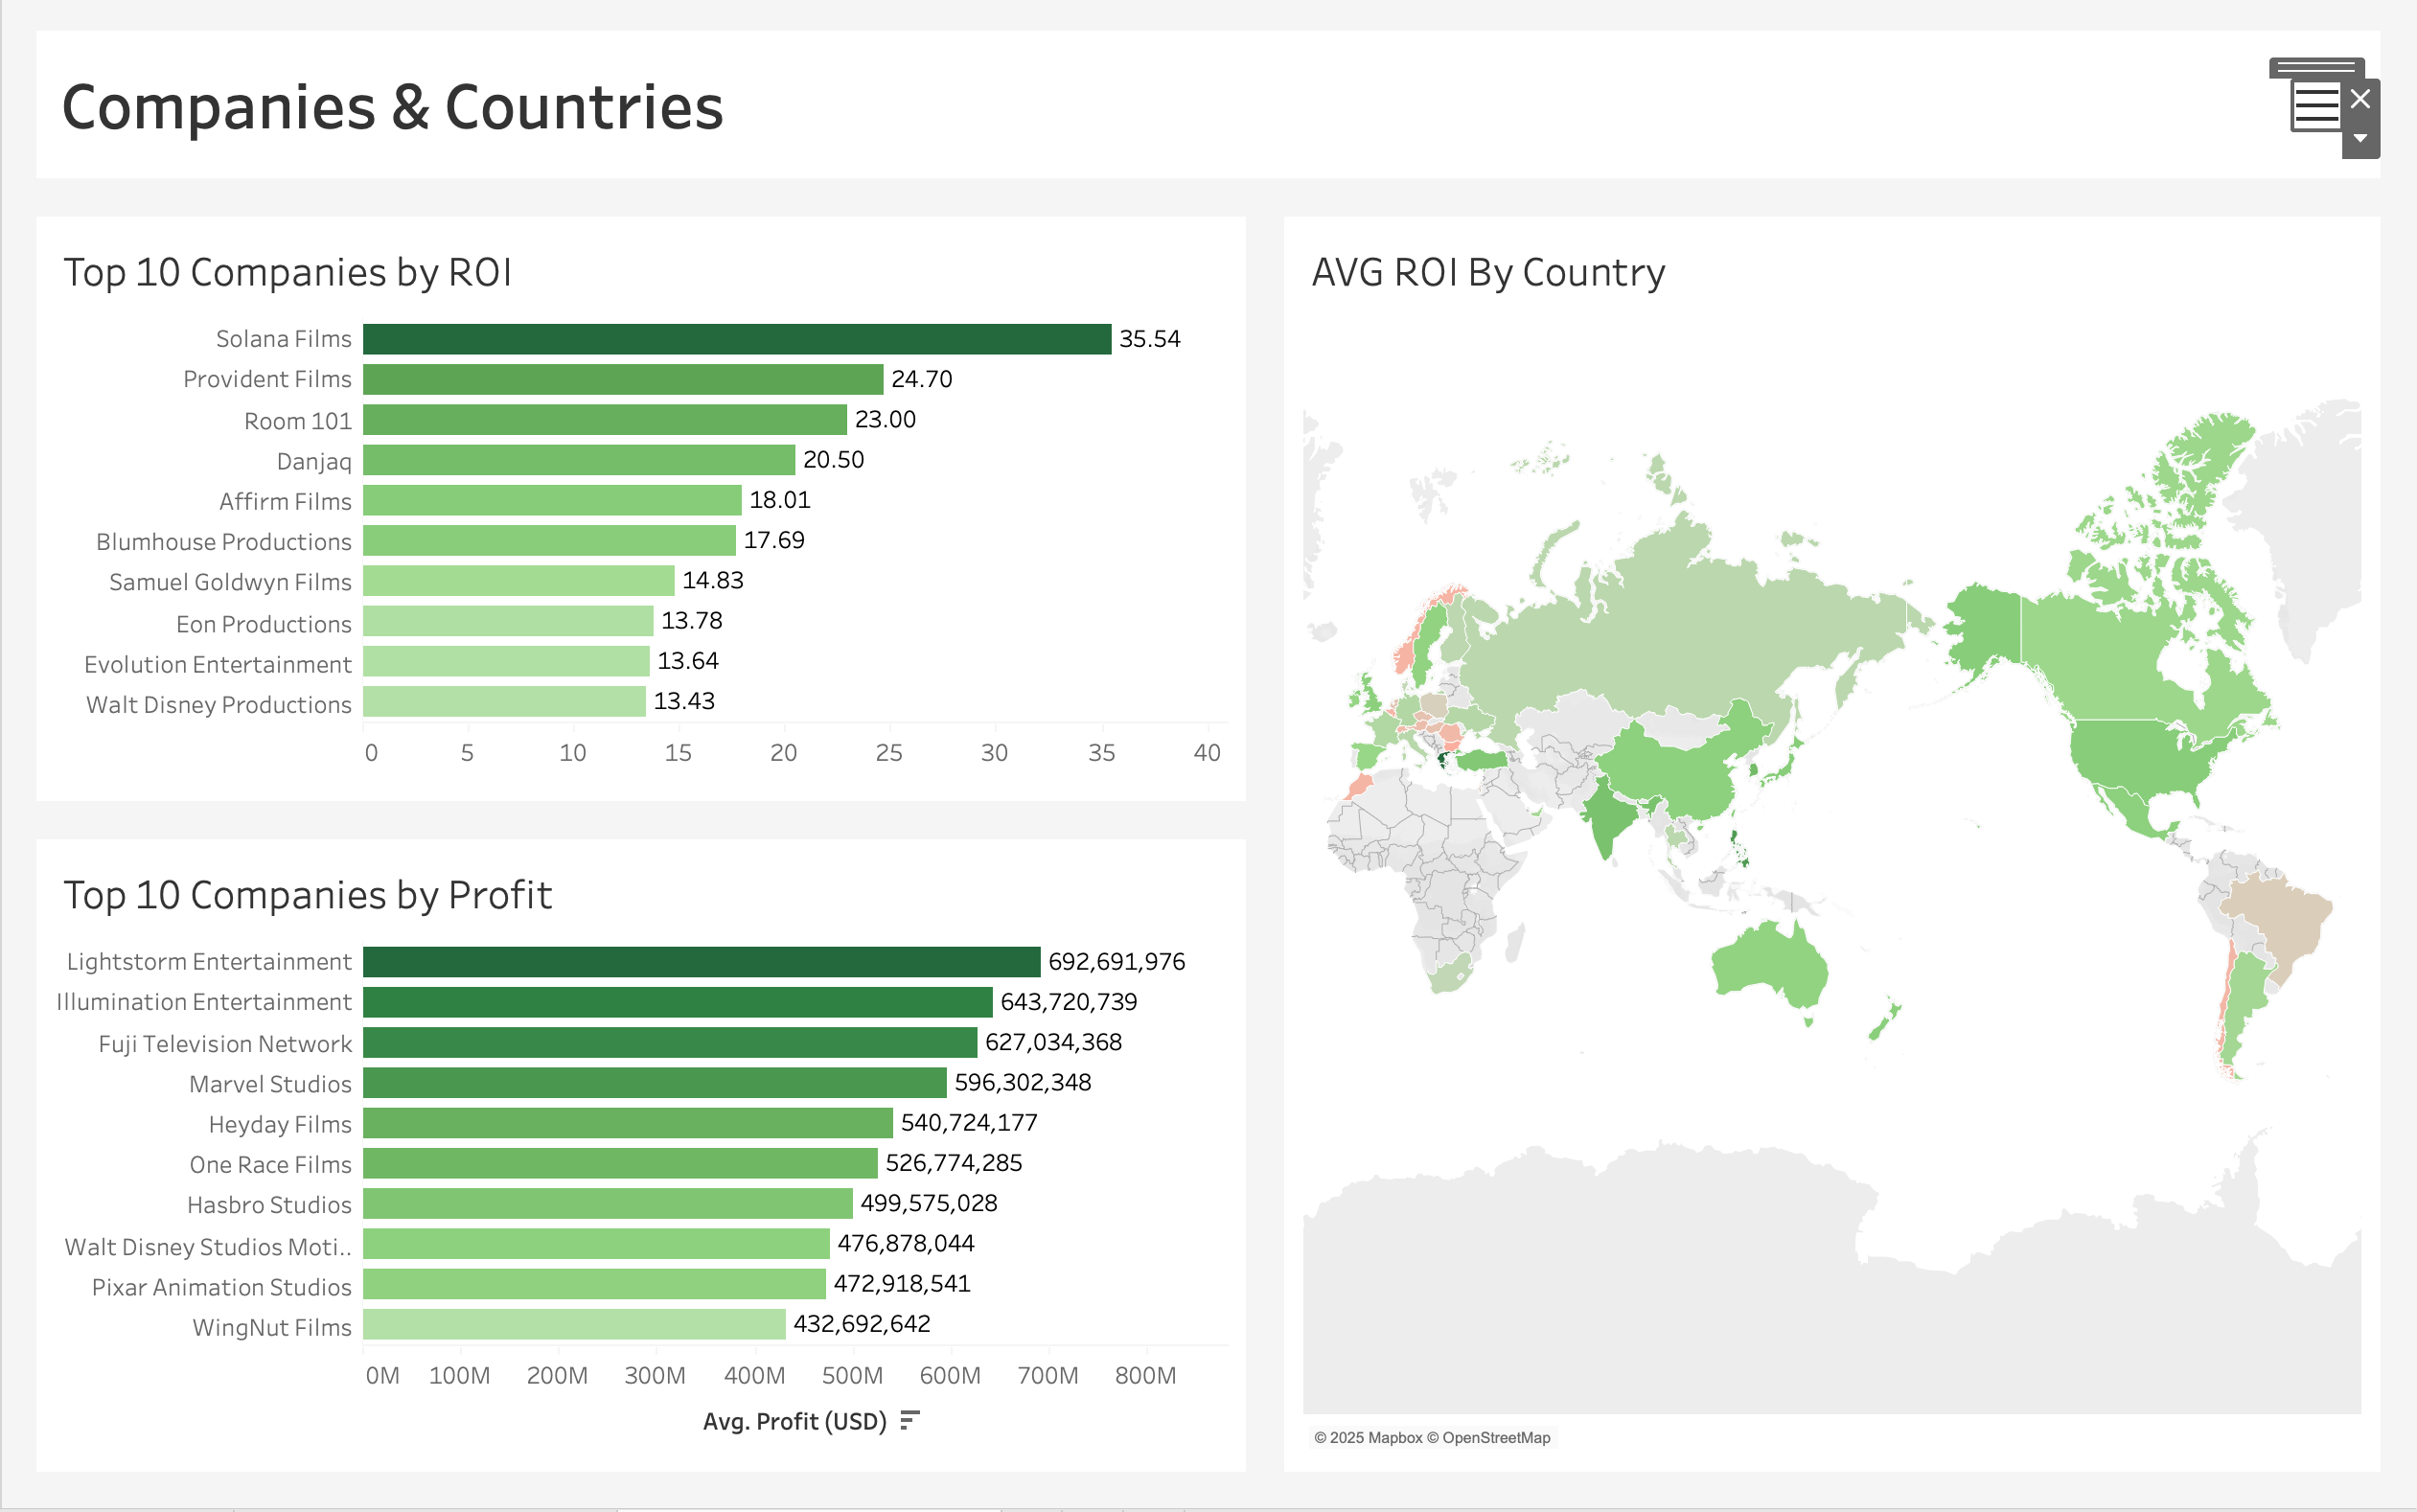

This screenshot's page, from the dashboard's own definition file:
{"tool":"tableau","page":{"name":"3 - Companies & Countries Dashboard","canvas":[1000,1000],"units":"permille","ordinal":2},"visuals":[{"type":"text","box":[6.4,10.2,987.3,123.1]},{"type":"dashboard-object","box":[801.4,57.1,130.3,115.5]},{"type":"dashboard-object","box":[950,57.1,19.1,30.5]},{"type":"worksheet","title":"Top 10 Companies by ROI","mark":"Automatic","rows":["production_companies"],"cols":["Calculation_4591560568300257284"],"box":[6.4,133.2,517.5,412.3]},{"type":"worksheet","title":"AVG ROI By Country","mark":"Automatic","box":[523.8,133.2,469.8,856.6]},{"type":"dashboard-object","box":[801.4,172.6,130.3,114.2]},{"type":"worksheet","title":"Top 10 Companies by Profit","mark":"Automatic","rows":["production_companies"],"cols":["profit"],"box":[6.4,545.6,517.5,444.1]}]}

Visuals, with their boxes on the dashboard's canvas, which has no fixed pixel size, in thousandths of its width and height (x1, y1, x2, y2). These are canvas units, not pixel positions in the 2417x1512 screenshot, which may show the page scaled, cropped or inside an application window:
text: BBox(6, 10, 994, 133)
dashboard-object: BBox(801, 57, 932, 173)
dashboard-object: BBox(950, 57, 969, 88)
"Top 10 Companies by ROI" worksheet: BBox(6, 133, 524, 546)
"AVG ROI By Country" worksheet: BBox(524, 133, 994, 990)
dashboard-object: BBox(801, 173, 932, 287)
"Top 10 Companies by Profit" worksheet: BBox(6, 546, 524, 990)
